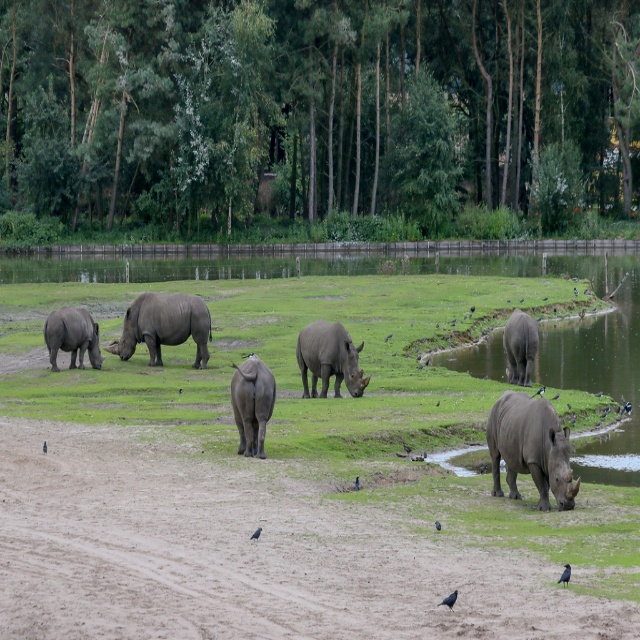Rhinoceros: (484, 393, 580, 519), (106, 292, 214, 373), (294, 322, 368, 403), (230, 354, 276, 462), (41, 305, 105, 371), (502, 309, 541, 386)
